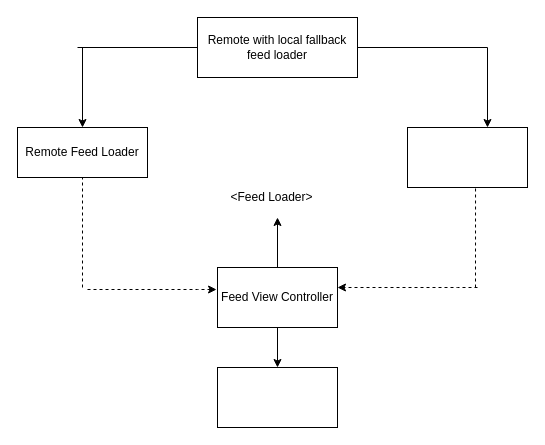
Some shapes in this 545 by 445 pixel diagram are drawn without their labels. The shapes that lost their labels are listed below. From the top down, each one's box as (x1, y1, x2, y2) in pixels, then its label:
(406, 126, 528, 188): Local Feed Loader
(216, 366, 338, 428): UIViewController
